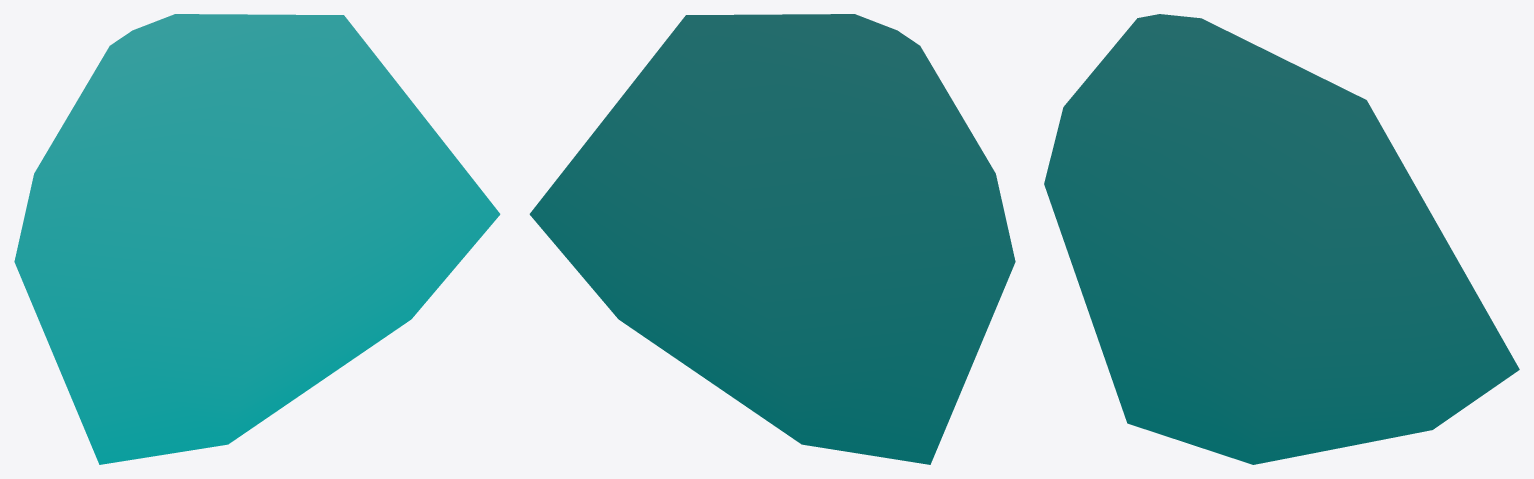
File: Elderberry_wfzobb2ia_Mid_wfzobb2ia_VarD_LOD3.fbx
3 views of the same model, side by side, from view 1: azimuth 30°, elevation 25°; view 2: azimuth 150°, elevation 25°; view 3: azimuth 330°, elevation 25° (orthographic). The views are drawn at different scales.
Visible parts, largest first — view 1: _bstq_VarD_LOD6; view 2: _bstq_VarD_LOD6; view 3: _bstq_VarD_LOD6.
Boxes of the visible parts, x1,y1,x2,y2 form: _bstq_VarD_LOD6: (14,14,500,464); _bstq_VarD_LOD6: (529,14,1015,464); _bstq_VarD_LOD6: (1044,14,1519,464).
Size of the model in its own units: 103 by 89.73 by 0.
